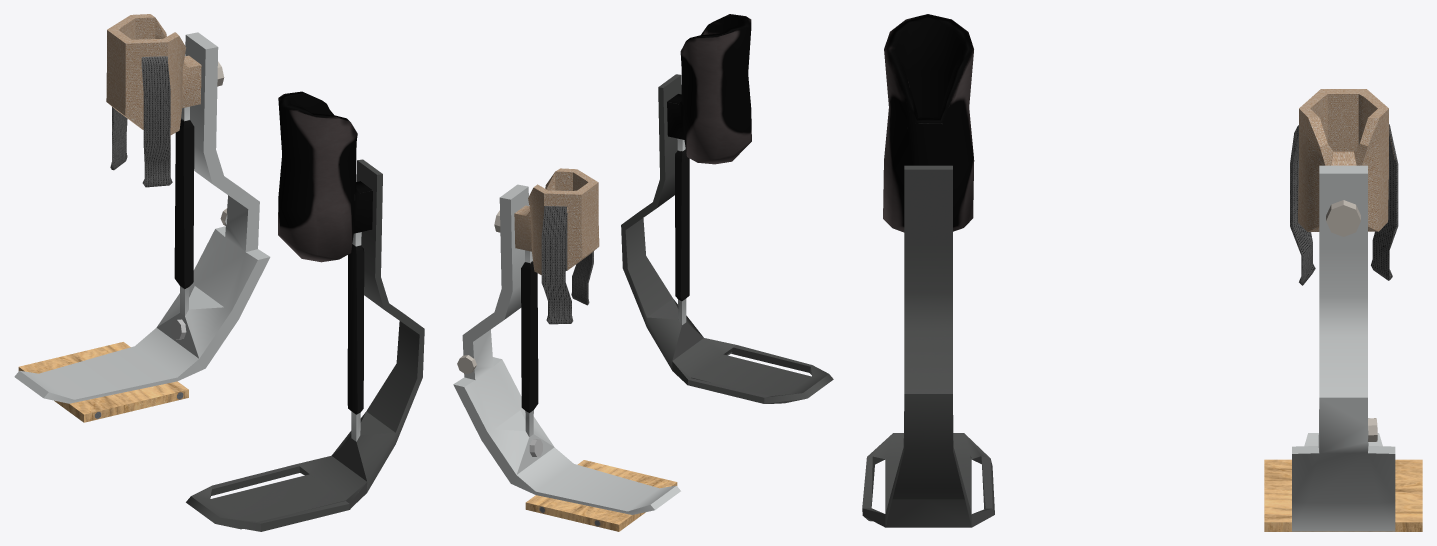
The model's file is product.fbx.
The picture shows the model from 3 angles, left to right: view 1: azimuth 30°, elevation 25°; view 2: azimuth 150°, elevation 25°; view 3: azimuth 270°, elevation 25°; orthographic projection. The views are drawn at different scales.
Parts seen in each view (by area): view 1: pCube3, pCube2; view 2: pCube3, pCube2; view 3: pCube3, pCube2.
Part boxes in pixels (<box>): pCube3: <box>14,14,270,422</box>; pCube2: <box>186,91,424,531</box>; pCube3: <box>453,168,680,531</box>; pCube2: <box>621,14,833,403</box>; pCube3: <box>1264,89,1422,531</box>; pCube2: <box>862,14,994,527</box>.
Bounding box in the file's own units: 17.84 × 32.01 × 30.81.
2 materials, 2 textured.
